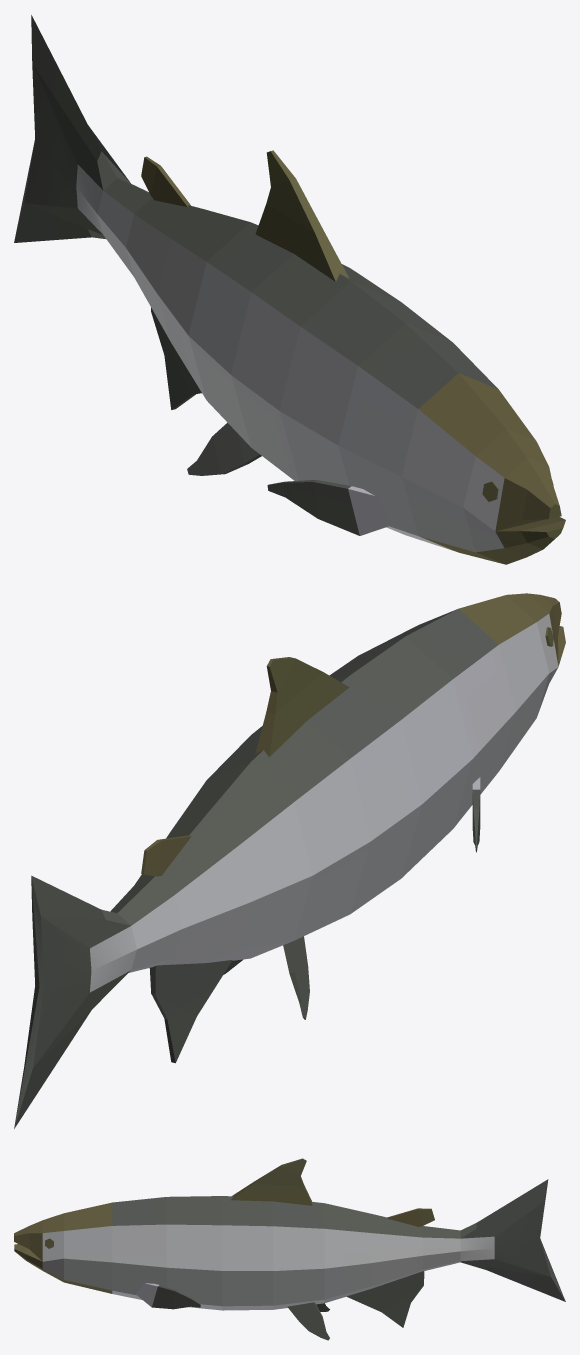
Rendered from animals-fish-092.glb.
3 views of the same model, one above another, from view 1: azimuth 30°, elevation 25°; view 2: azimuth 150°, elevation 25°; view 3: azimuth 270°, elevation 25° (orthographic). The views are drawn at different scales.
Parts seen in each view (by area): view 1: Geo_Salmon; view 2: Geo_Salmon; view 3: Geo_Salmon.
Part boxes in pixels (x1=…): Geo_Salmon: x1=14, y1=15, x2=565, y2=564; Geo_Salmon: x1=14, y1=593, x2=565, y2=1128; Geo_Salmon: x1=14, y1=1158, x2=565, y2=1340.
Bounding box in the file's own units: 18.18 × 27.46 × 81.36.
1 material, 1 textured.
